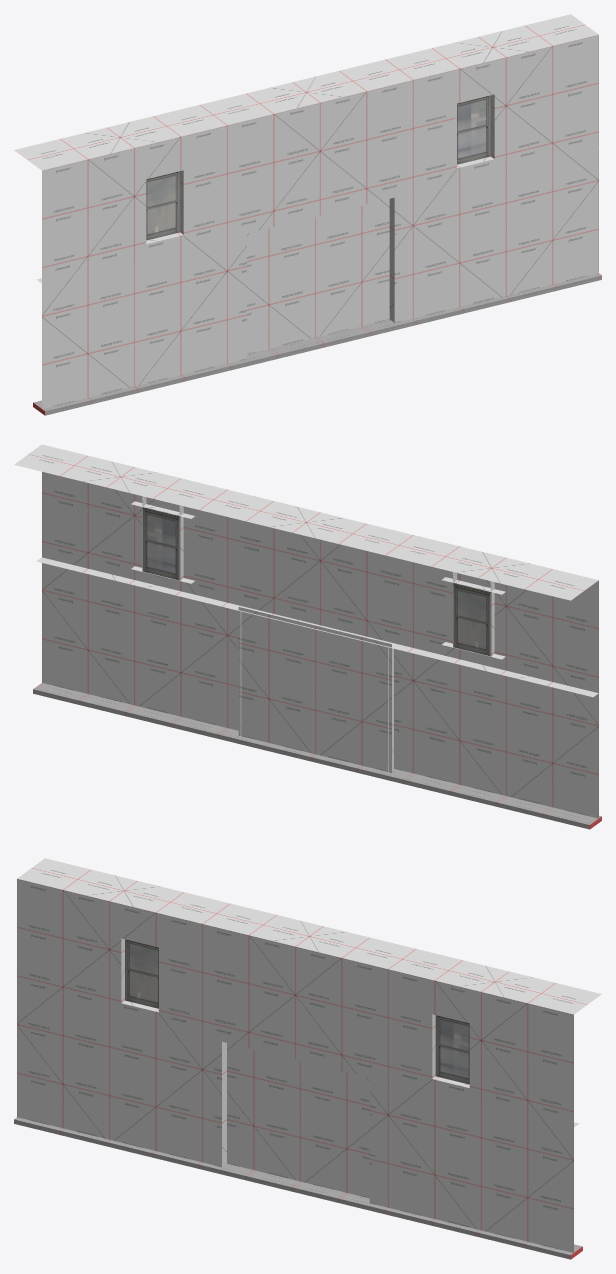
3 views of the same model, one above another, from view 1: azimuth 30°, elevation 25°; view 2: azimuth 150°, elevation 25°; view 3: azimuth 330°, elevation 25° (orthographic).
Visible parts, largest first — view 1: B_02_3x_e, B_02_border_b; view 2: B_02_3x_e, B_02_border_b; view 3: B_02_3x_e, B_02_border_b.
Part boxes in pixels (left/top/right/bottom): B_02_3x_e: left=14, top=14, right=598, bottom=408; B_02_border_b: left=33, top=273, right=601, bottom=415; B_02_3x_e: left=14, top=444, right=598, bottom=818; B_02_border_b: left=33, top=683, right=601, bottom=829; B_02_3x_e: left=17, top=858, right=601, bottom=1252; B_02_border_b: left=14, top=1117, right=582, bottom=1259.
Size of the model in its own units: 60 by 5.8 by 25.
